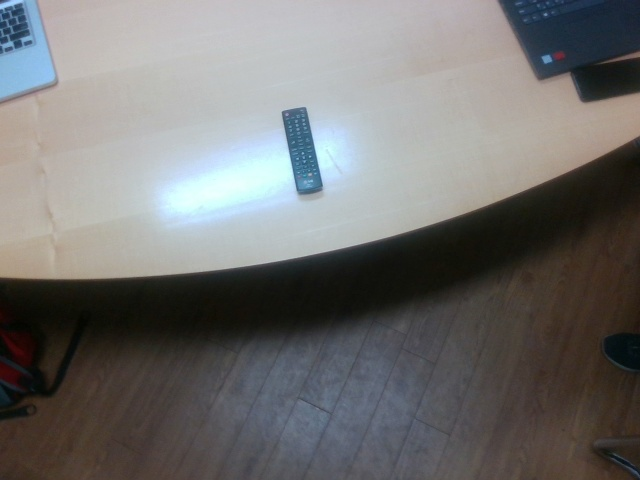remote: (280, 108, 324, 196)
